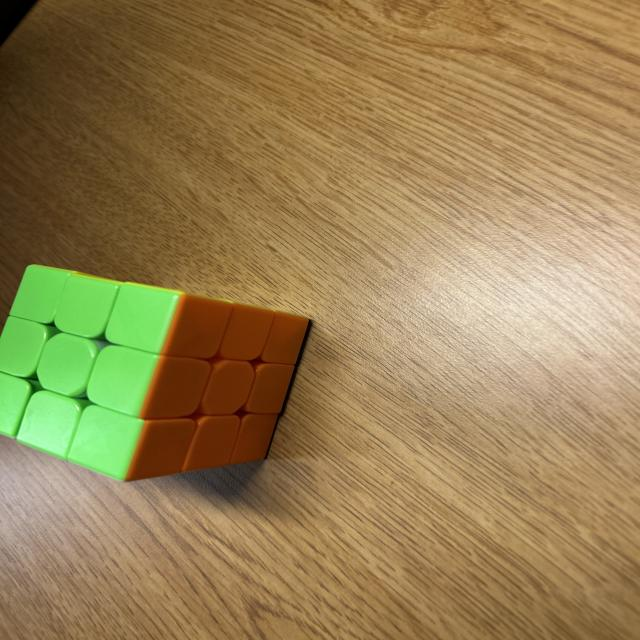Rubiks Cube: (0, 264, 311, 483)
